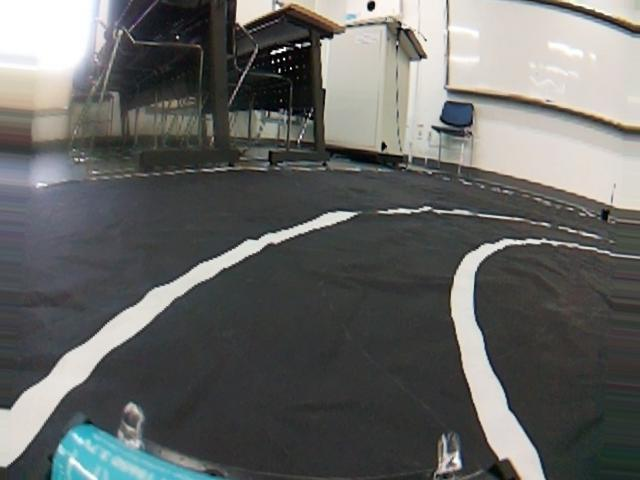right: (3, 197, 636, 479)
